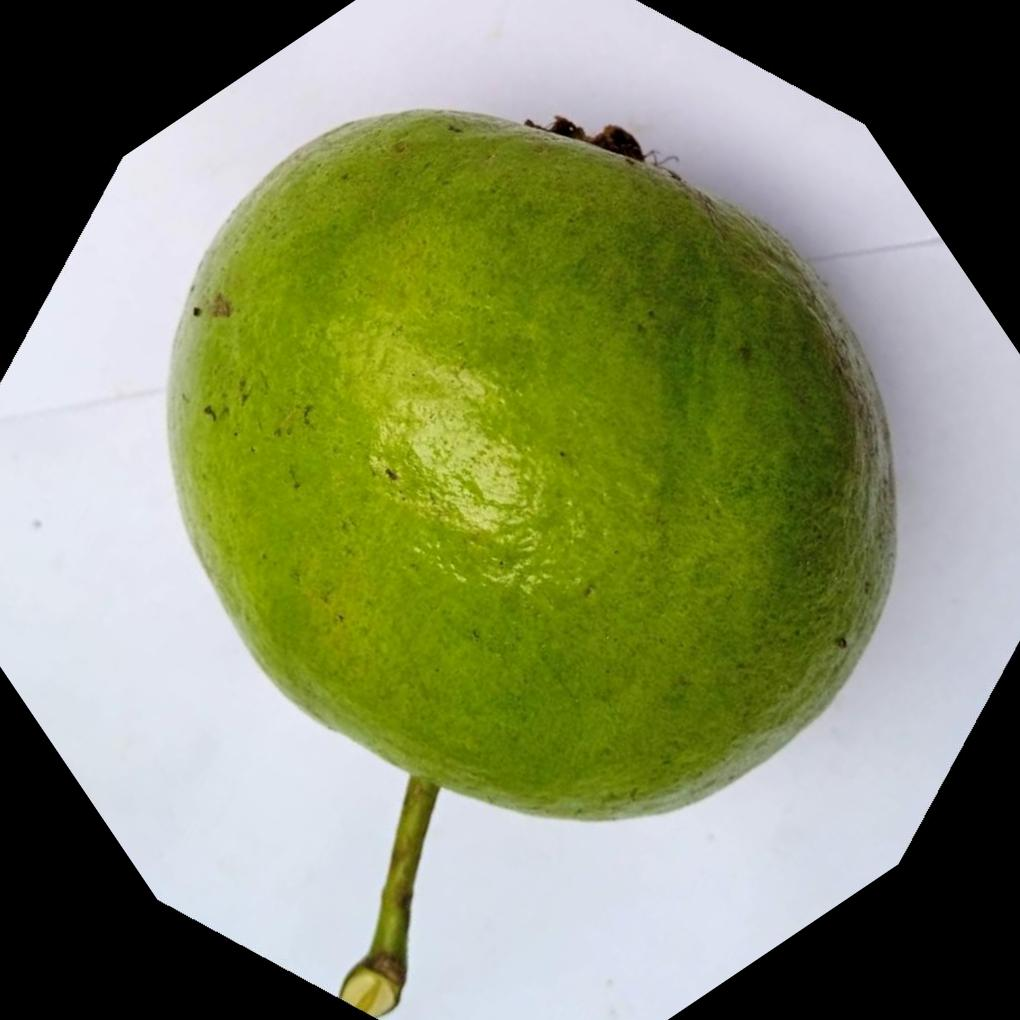FreshGuava: (164, 108, 901, 827)
